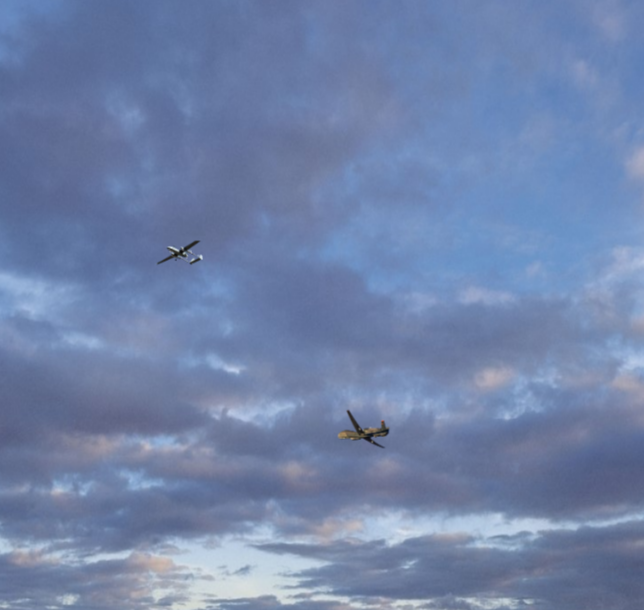military drone: (337, 409, 389, 448), (156, 239, 202, 265)
